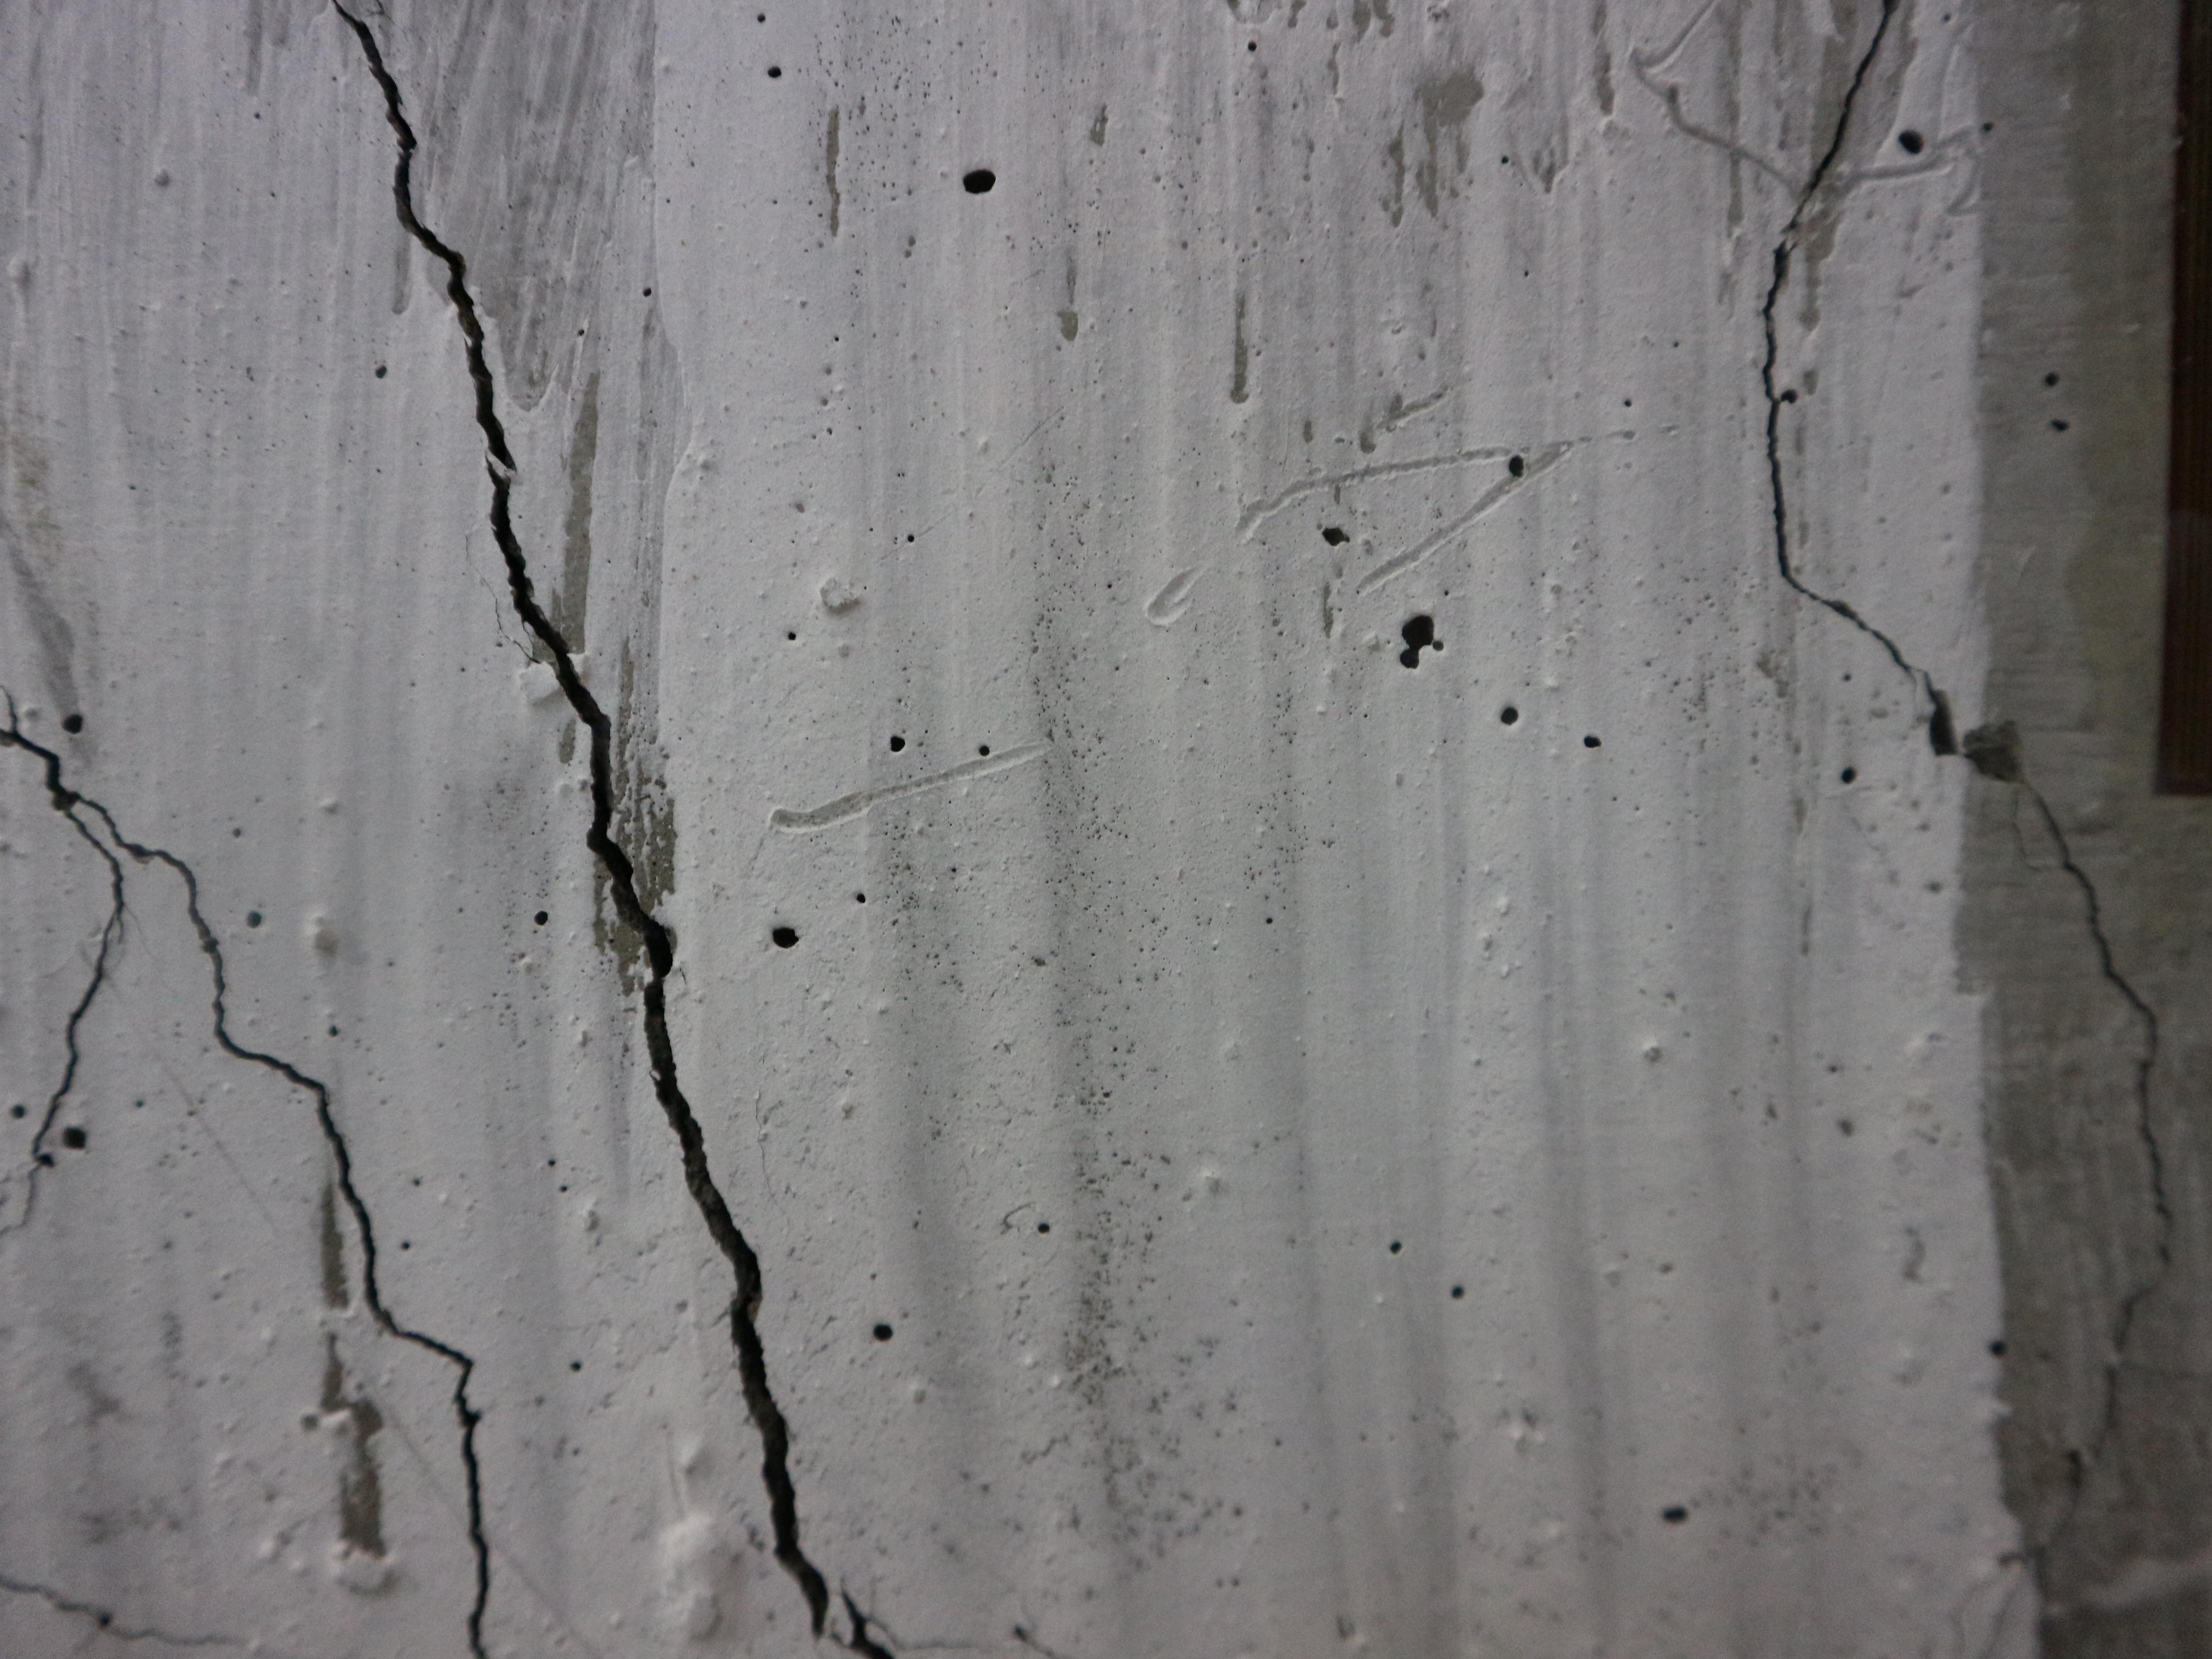crack: (322, 0, 904, 1657), (1757, 0, 2181, 1656), (0, 685, 493, 1659), (10, 810, 127, 1241)
hole: (1399, 612, 1437, 671), (961, 169, 996, 192), (1897, 129, 1926, 155), (1322, 525, 1353, 549), (59, 1122, 84, 1152), (770, 929, 801, 950), (1662, 1504, 1689, 1527), (871, 1321, 894, 1344), (1507, 455, 1524, 481), (1501, 706, 1521, 727), (64, 713, 85, 732), (1987, 1338, 2008, 1358), (888, 734, 906, 755), (1581, 734, 1604, 749), (2043, 369, 2060, 389), (1778, 390, 1801, 404), (2052, 416, 2069, 434), (1841, 765, 1857, 784), (246, 910, 261, 929), (768, 64, 784, 82), (533, 910, 549, 927), (37, 1152, 52, 1169), (1390, 1241, 1404, 1256), (10, 1105, 24, 1121), (1980, 120, 1996, 134), (1451, 1284, 1463, 1300), (374, 364, 387, 380), (568, 1361, 583, 1373), (977, 744, 991, 756), (855, 892, 867, 906), (1432, 640, 1444, 653), (326, 1025, 340, 1037), (1038, 1223, 1050, 1236), (641, 286, 653, 298), (1500, 153, 1512, 166), (1247, 40, 1259, 52), (786, 631, 796, 641), (758, 14, 768, 23), (1623, 399, 1634, 408), (401, 1241, 409, 1251), (559, 1183, 568, 1194), (907, 533, 914, 545), (1264, 917, 1273, 925), (413, 1176, 421, 1185), (549, 1157, 556, 1168)
